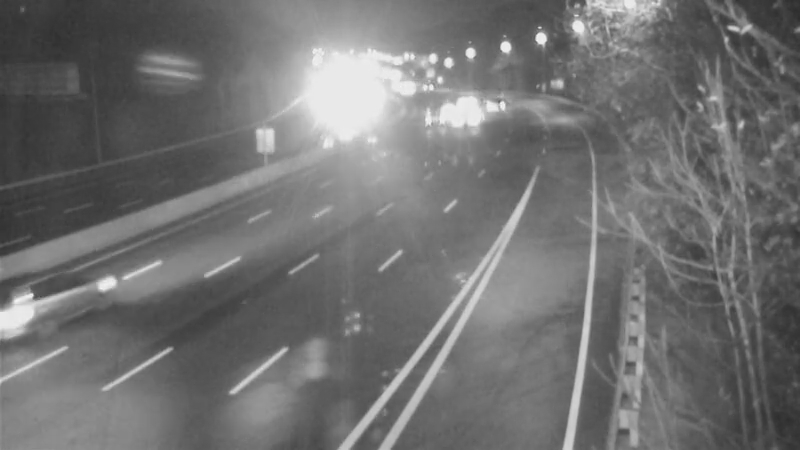vehicle: (1, 253, 99, 363), (408, 90, 458, 140), (446, 95, 496, 145)
